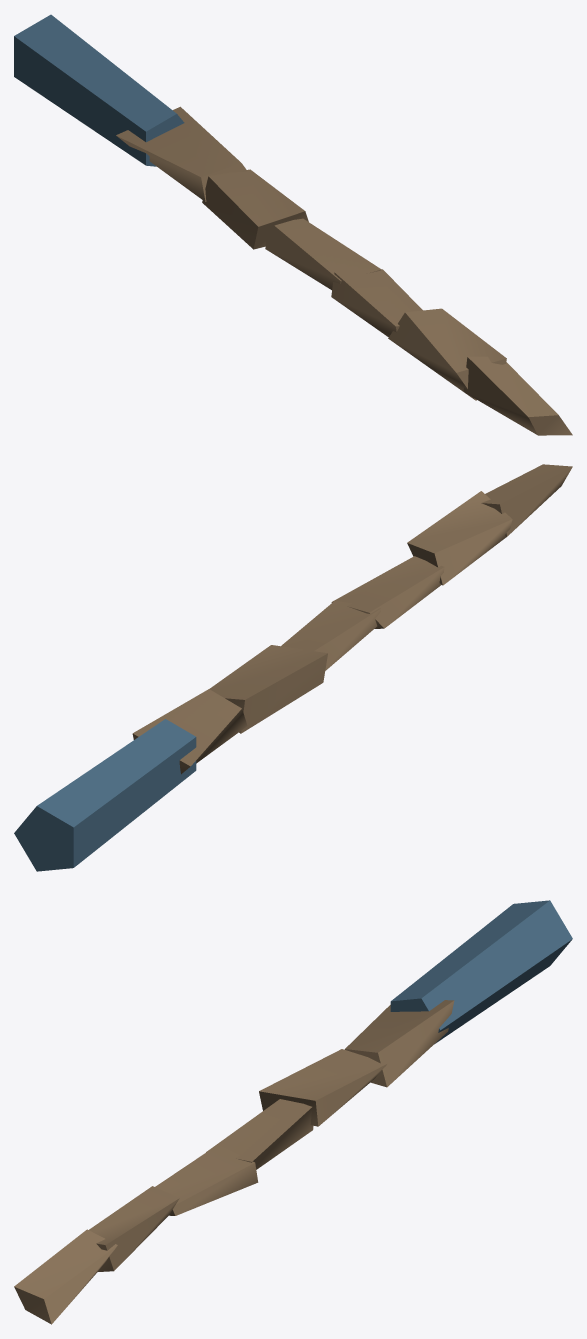
The model's file is SM_Weapon_OniBlade.glb.
3 renders of one model, top to bottom at view 1: azimuth 30°, elevation 25°; view 2: azimuth 150°, elevation 25°; view 3: azimuth 330°, elevation 25°, orthographic.
Parts seen in each view (by area): view 1: asset_weapon_katana_oni; view 2: asset_weapon_katana_oni; view 3: asset_weapon_katana_oni.
Part boxes in pixels (x1,y1,x2,y2): asset_weapon_katana_oni: (14, 14, 572, 435); asset_weapon_katana_oni: (14, 464, 572, 871); asset_weapon_katana_oni: (14, 900, 572, 1324).
Bounding box in the file's own units: 0.0619 × 0.0571 × 0.8014.
1 material, 1 textured.
